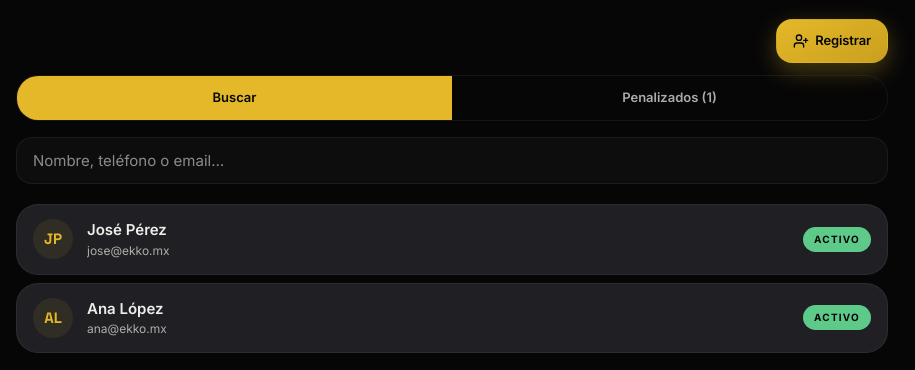
Test: BuscarMiembro · acentos/mayúsculas › el toggle "Penalizados" lista solo a los bloqueados activos (Bloque D)
This screenshot has width=915, height=370.
Click the button "Penalizados (1)".
click(670, 98)  # box [452,76,887,120]
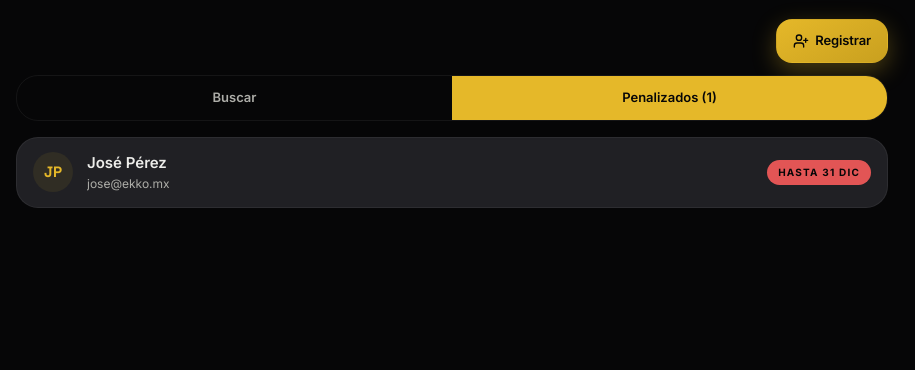
Expected: the text "José Pérez" is shown, [87,153,167,172]
Now the link "Ana López" is gone
